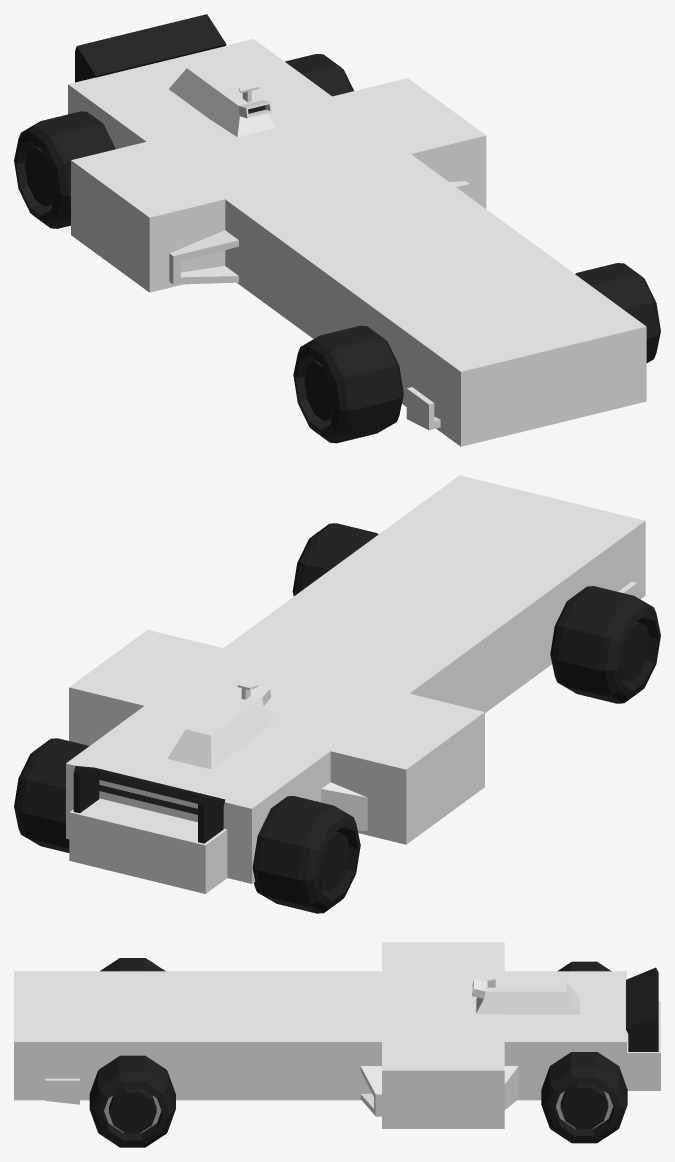
The model's file is F1-car.gltf.
The picture shows the model from 3 angles, top to bottom: view 1: azimuth 30°, elevation 25°; view 2: azimuth 150°, elevation 25°; view 3: azimuth 270°, elevation 25°; orthographic projection. The views are drawn at different scales.
Visible parts, largest first — view 1: chassi2s.001, chassis, front-right-tire, back-right-tire, front-left-tire, back-left-tire; view 2: chassi2s.001, chassis, front-right-tire, back-right-tire, back-left-tire, front-left-tire; view 3: chassi2s.001, chassis, front-left-tire, back-left-tire, front-right-tire, back-right-tire.
Part boxes in pixels (x1=…): chassi2s.001: x1=68, y1=39, x2=646, y2=446; chassis: x1=75, y1=14, x2=469, y2=430; front-right-tire: x1=293, y1=325, x2=403, y2=443; back-right-tire: x1=14, y1=111, x2=115, y2=228; front-left-tire: x1=575, y1=263, x2=660, y2=362; back-left-tire: x1=285, y1=54, x2=353, y2=96; chassi2s.001: x1=66, y1=475, x2=645, y2=883; chassis: x1=69, y1=581, x2=637, y2=893; front-right-tire: x1=550, y1=586, x2=660, y2=703; back-right-tire: x1=252, y1=796, x2=360, y2=913; back-left-tire: x1=14, y1=738, x2=89, y2=852; front-left-tire: x1=292, y1=523, x2=378, y2=596; chassi2s.001: x1=14, y1=942, x2=626, y2=1128; chassis: x1=45, y1=967, x2=660, y2=1116; front-left-tire: x1=89, y1=1055, x2=175, y2=1147; back-left-tire: x1=541, y1=1052, x2=627, y2=1143; front-right-tire: x1=100, y1=958, x2=165, y2=971; back-right-tire: x1=557, y1=961, x2=611, y2=971.
Bounding box in the file's own units: 3.63 × 1.49 × 7.74.
Materials: 1 (1 with a texture image).
